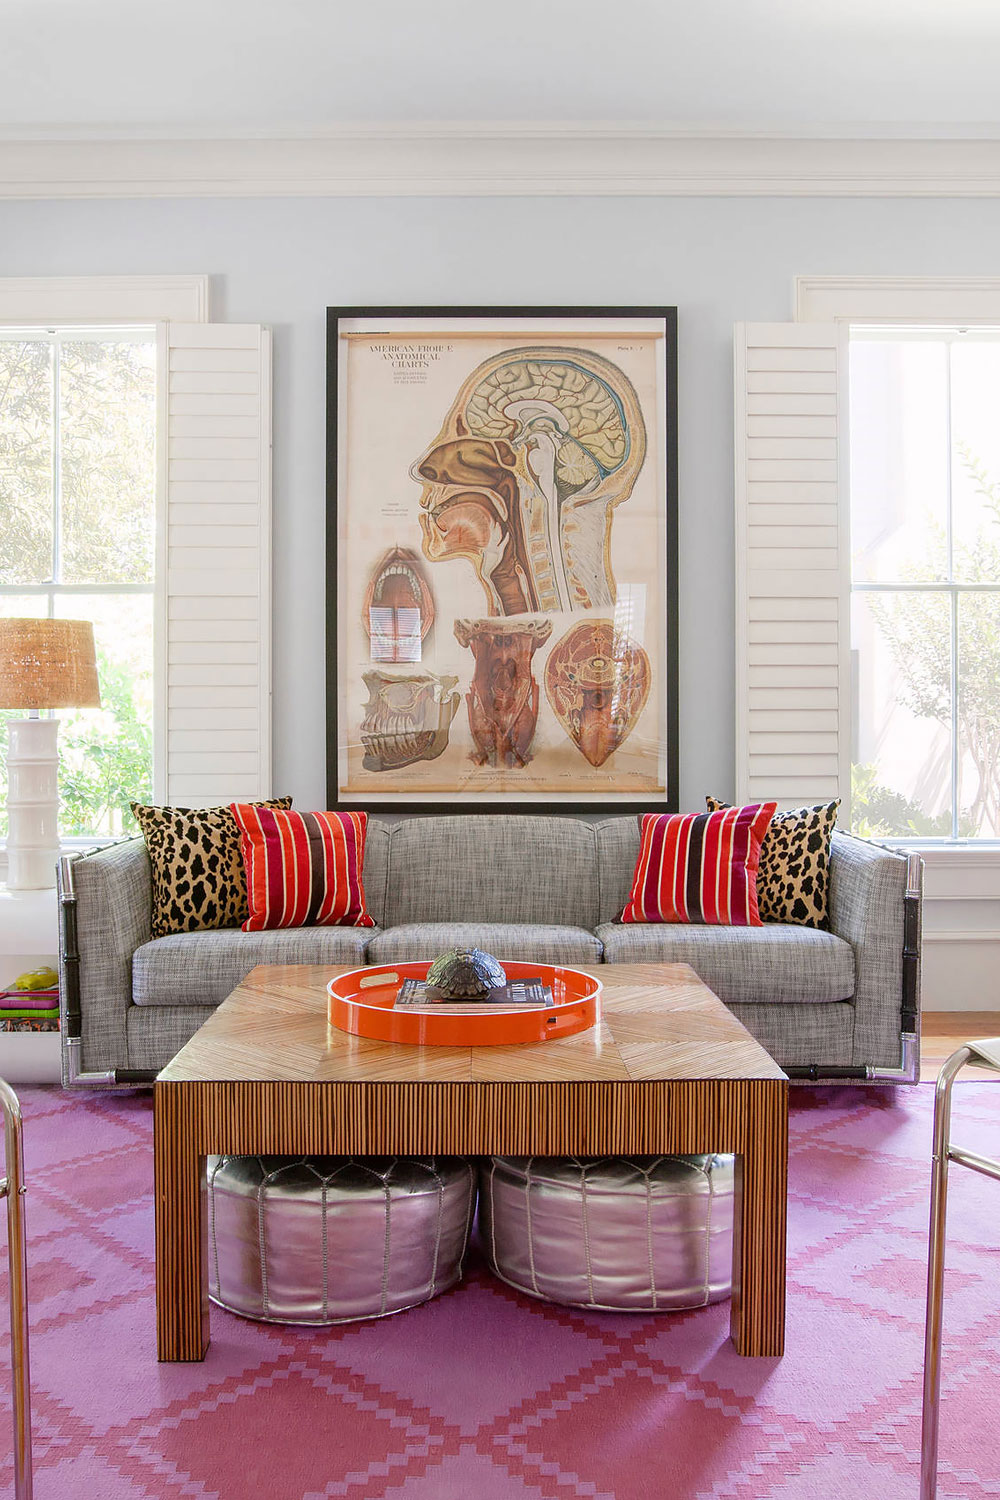coklat: (153, 960, 796, 1360)
orange: (331, 965, 598, 1039), (629, 807, 777, 931), (235, 812, 379, 920)
